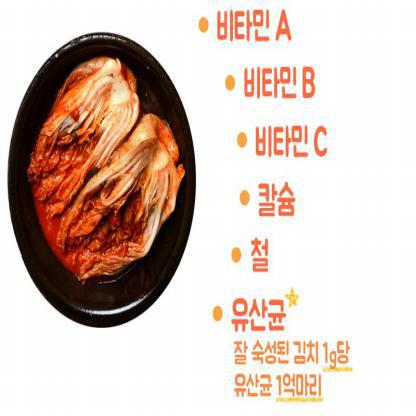kimchi: (58, 102, 184, 286), (31, 46, 136, 217)
